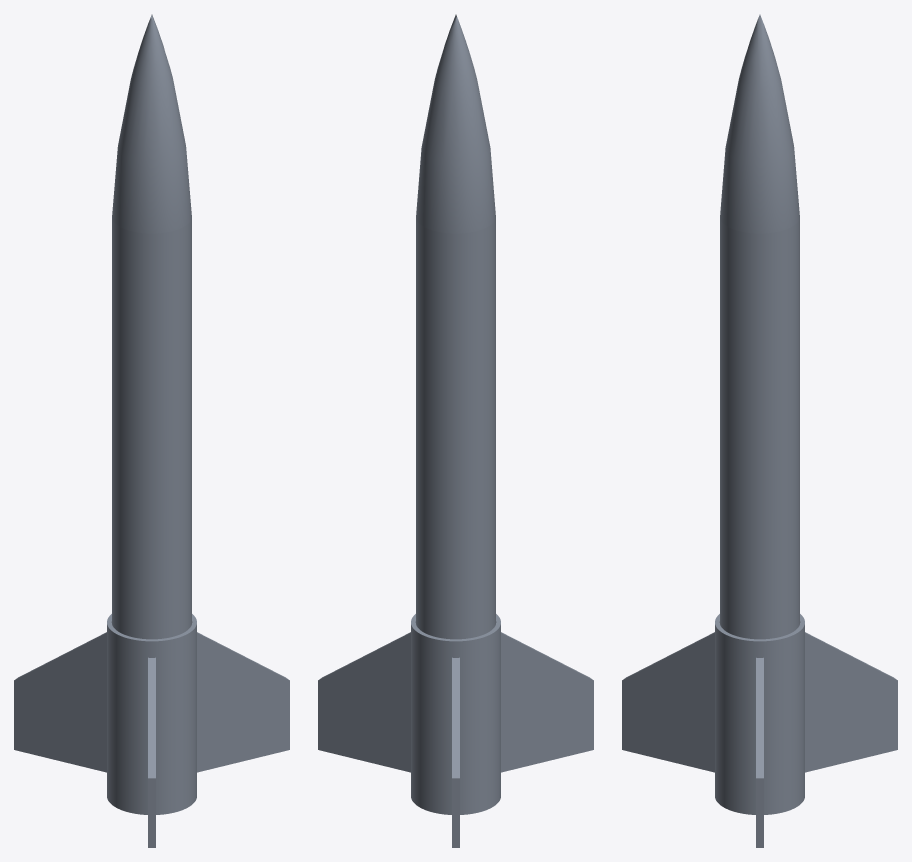
The model's file is step-3-preview-1.glb.
3 views of the same model, side by side, from view 1: azimuth 30°, elevation 25°; view 2: azimuth 150°, elevation 25°; view 3: azimuth 270°, elevation 25° (orthographic).
Parts seen in each view (by area): view 1: preview_0, preview_12, preview_8, preview_11, preview_18, preview_23, preview_27; view 2: preview_0, preview_12, preview_8, preview_13, preview_24, preview_19, preview_26; view 3: preview_0, preview_12, preview_8, preview_20, preview_22, preview_14, preview_10.
Part boxes in pixels (x1,y1,x2,y2): preview_0: (112,218,191,639); preview_12: (107,624,196,814); preview_8: (112,14,191,233); preview_11: (197,633,289,772); preview_18: (14,633,106,772); preview_23: (148,657,155,778); preview_27: (148,778,155,847); preview_0: (416,218,495,639); preview_12: (411,624,500,814); preview_8: (416,14,495,233); preview_13: (318,633,410,772); preview_24: (501,633,593,772); preview_19: (452,657,459,778); preview_26: (452,778,459,847); preview_0: (720,218,799,639); preview_12: (715,624,804,814); preview_8: (720,14,799,233); preview_20: (805,633,897,772); preview_22: (622,633,714,772); preview_14: (756,657,763,778); preview_10: (756,778,763,847).
Size of the model in its own units: 0.0747 by 0.27 by 0.0863.
